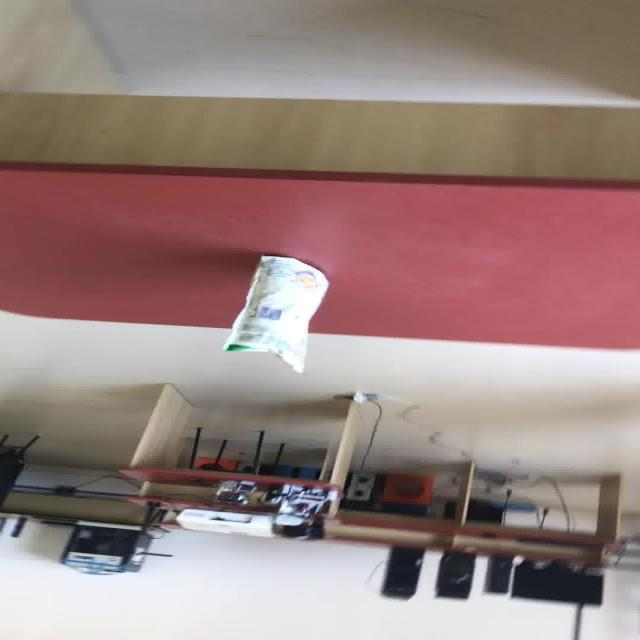corn flakes: (220, 253, 329, 373)
